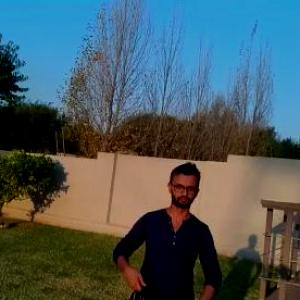follow: (110, 159, 230, 299)
